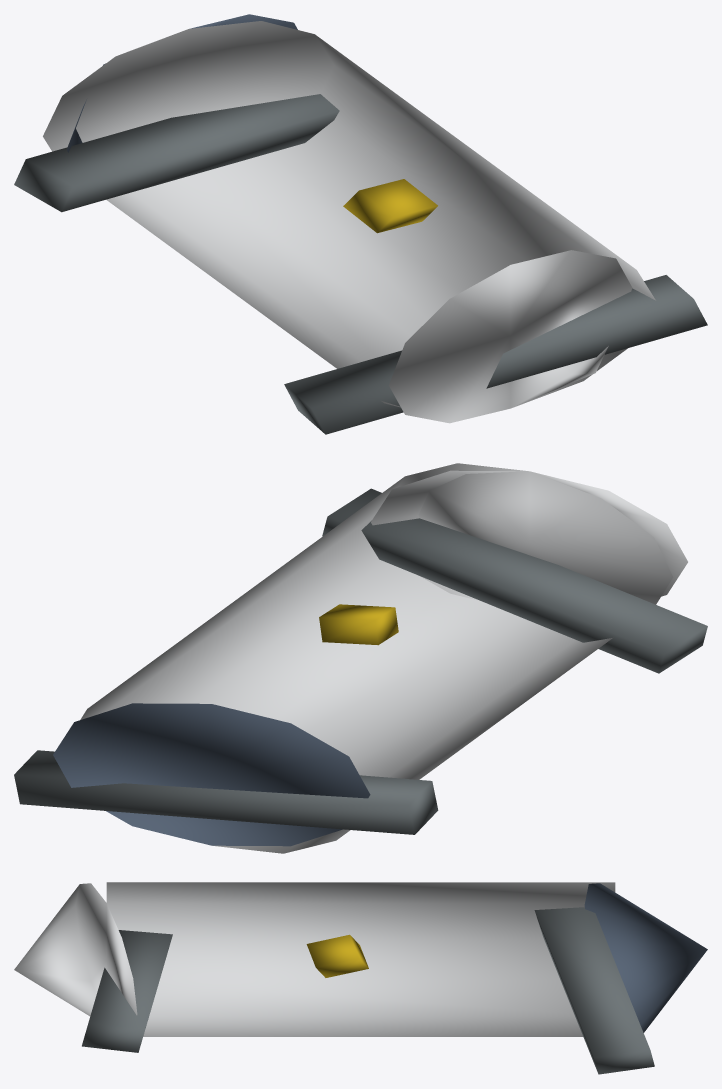
Rendered from propane-tank-wreck.glb.
3 renders of one model, top to bottom at view 1: azimuth 30°, elevation 25°; view 2: azimuth 150°, elevation 25°; view 3: azimuth 270°, elevation 25°, orthographic. The views are drawn at different scales.
Parts seen in each view (by area): view 1: world; view 2: world; view 3: world.
Part boxes in pixels (left/top/right/bottom): world: left=14, top=14, right=707, bottom=434; world: left=14, top=463, right=707, bottom=853; world: left=14, top=882, right=707, bottom=1074.
Size of the model in its own units: 1.8 by 0.65 by 3.6.
